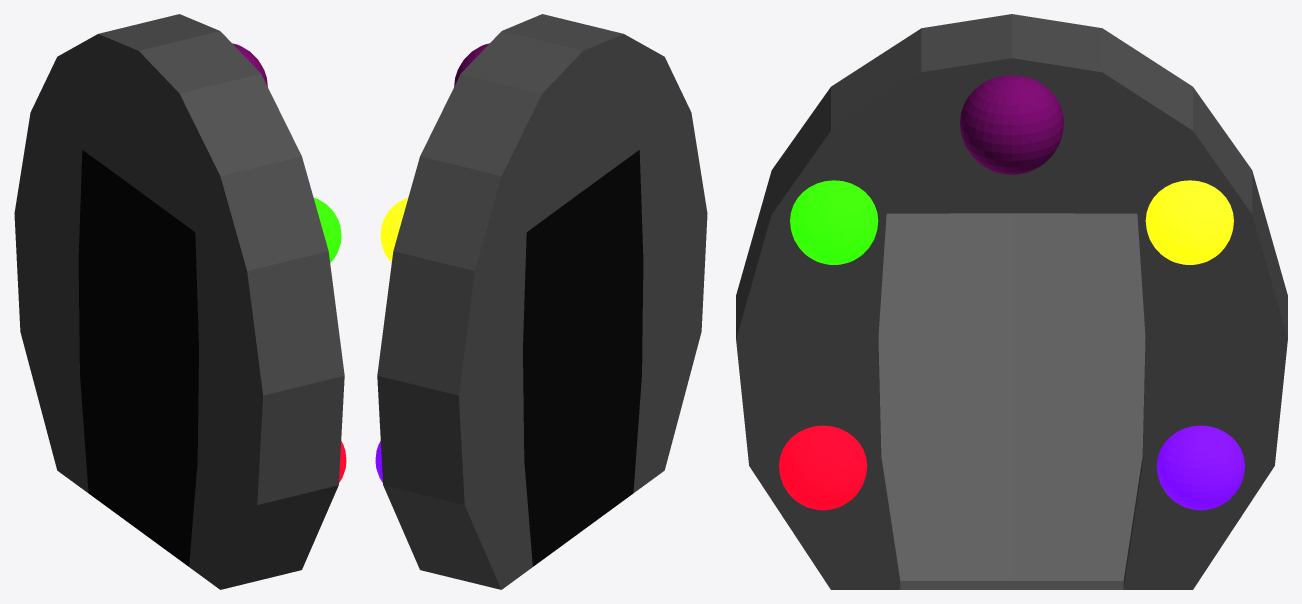
The model's file is 宝石扉(4光）.fbx.
3 renders of one model, left to right at view 1: azimuth 30°, elevation 25°; view 2: azimuth 150°, elevation 25°; view 3: azimuth 270°, elevation 25°, orthographic. The views are drawn at different scales.
Parts seen in each view (by area): view 1: Cube, Cube.004; view 2: Cube, Cube.001; view 3: Cube, Cube.007, Cube.006, Cube.002, Cube.001, Cube.004, Cube.003, Cube.005.
Part boxes in pixels (<box>): Cube: <box>14,14,344,589</box>; Cube.004: <box>314,198,341,262</box>; Cube: <box>377,14,707,589</box>; Cube.001: <box>380,198,407,262</box>; Cube: <box>736,14,1287,589</box>; Cube.007: <box>878,213,1014,580</box>; Cube.006: <box>1013,213,1145,580</box>; Cube.002: <box>960,75,1063,174</box>; Cube.001: <box>1145,180,1233,264</box>; Cube.004: <box>790,180,878,264</box>; Cube.003: <box>779,425,867,510</box>; Cube.005: <box>1156,425,1244,510</box>.
Bounding box in the file's own units: 260 × 969 × 912.
